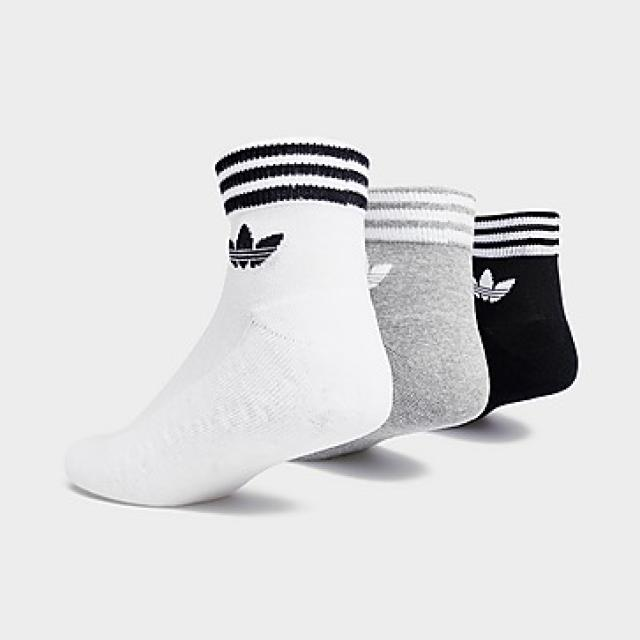sock: (64, 139, 393, 506), (291, 183, 490, 462), (458, 208, 578, 425)
